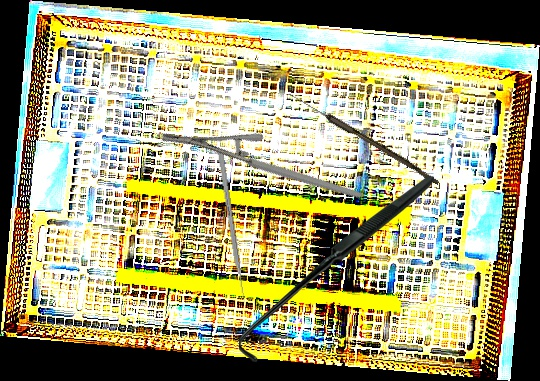Hook Surgical: (239, 176, 434, 362)
Needle Holder: (158, 77, 364, 256)
Pusher: (216, 149, 248, 305)
Surgical Spoon: (286, 91, 442, 185)
